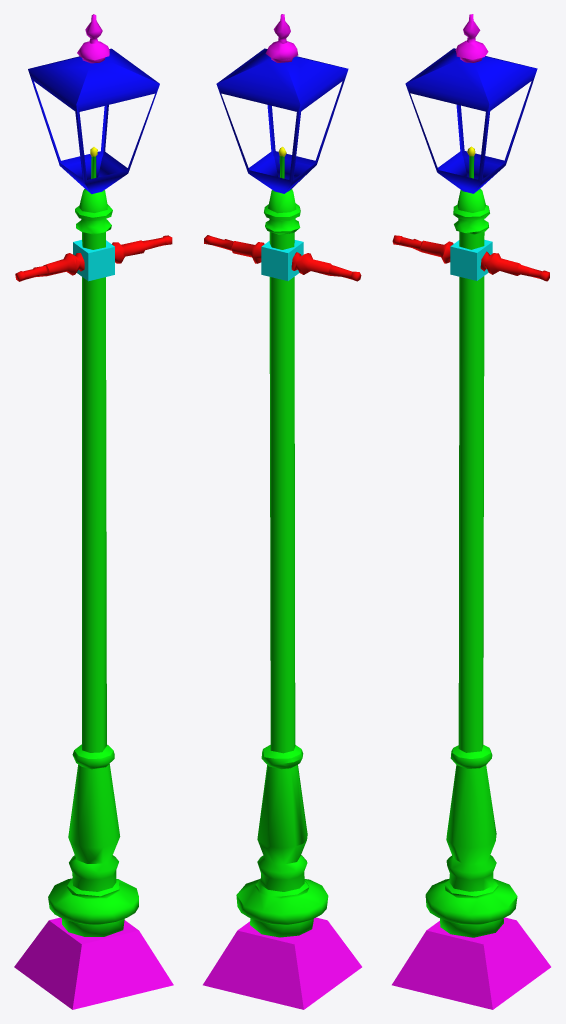
The model's file is Light2.fbx.
The picture shows the model from 3 angles, left to right: view 1: azimuth 30°, elevation 25°; view 2: azimuth 150°, elevation 25°; view 3: azimuth 330°, elevation 25°; orthographic projection.
Parts seen in each view (by area): view 1: Light2; view 2: Light2; view 3: Light2.
Boxes of the visible parts, <box> form: Light2: <box>14,14,173,1009</box>; Light2: <box>203,14,361,1009</box>; Light2: <box>392,14,550,1009</box>.
Bounding box in the file's own units: 2.39 × 14.33 × 1.58.
